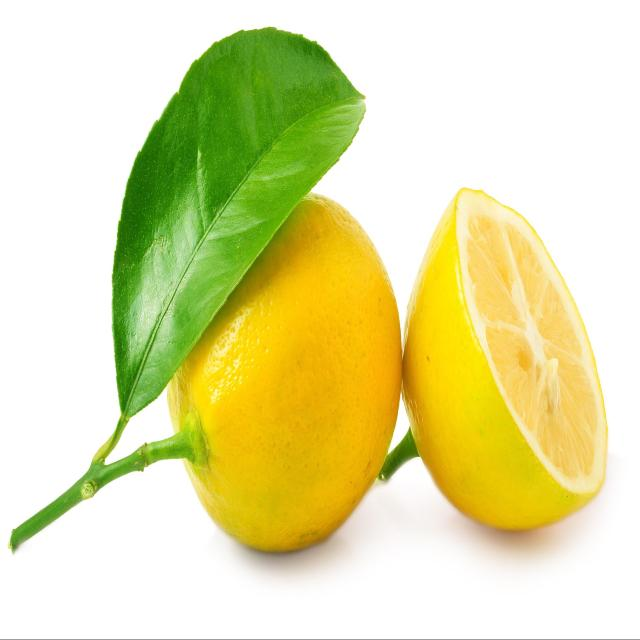lemon: (397, 179, 616, 537)
